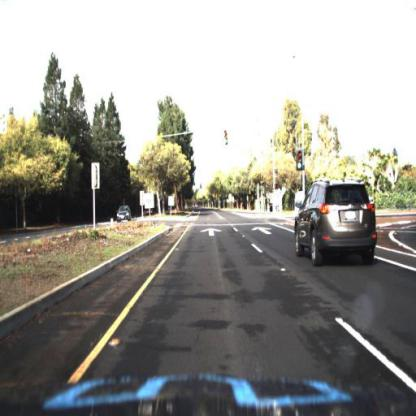car: (295, 181, 379, 269), (113, 203, 135, 226)
trafficLight: (274, 166, 280, 185)
trafficLight-Green: (296, 152, 306, 173), (223, 135, 231, 150), (225, 131, 230, 147)
